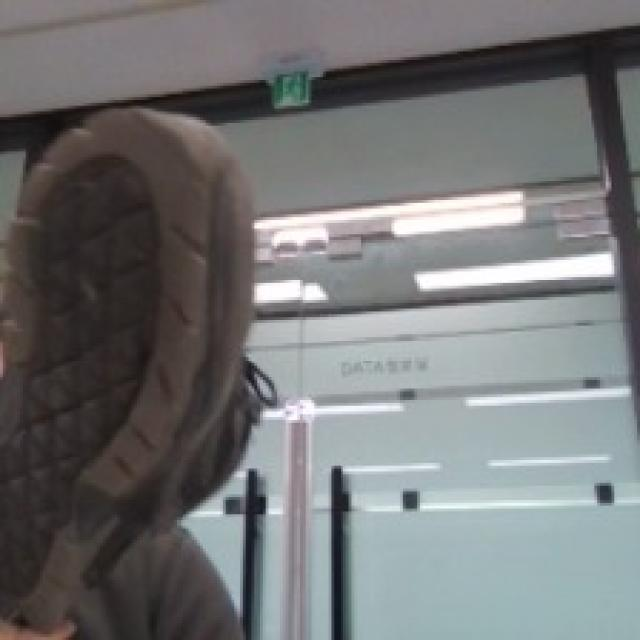shoe: (0, 94, 271, 639)
